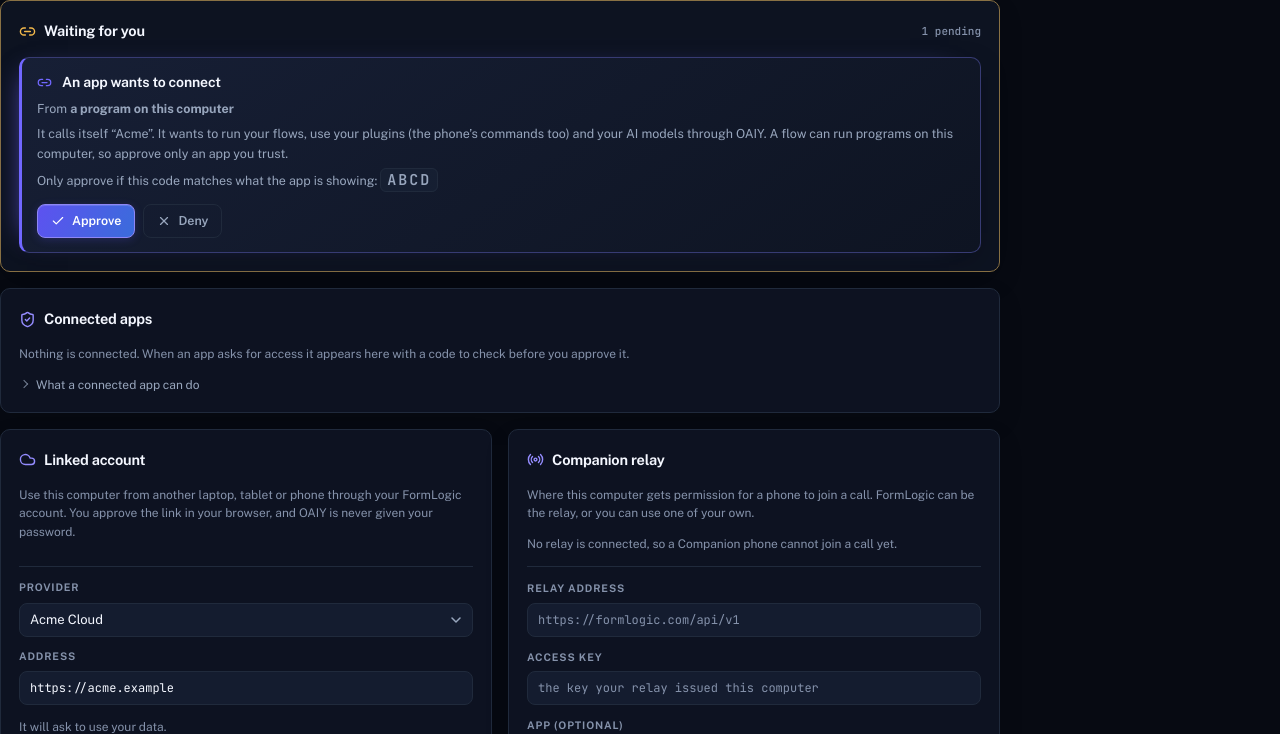
it: ConnectionsPanel · Connected apps › keeps the answer to an Approve on screen past the next reading of the list
Click the button "Approve" at (86, 221), box [37,204,135,238]
Wait 7000 ms
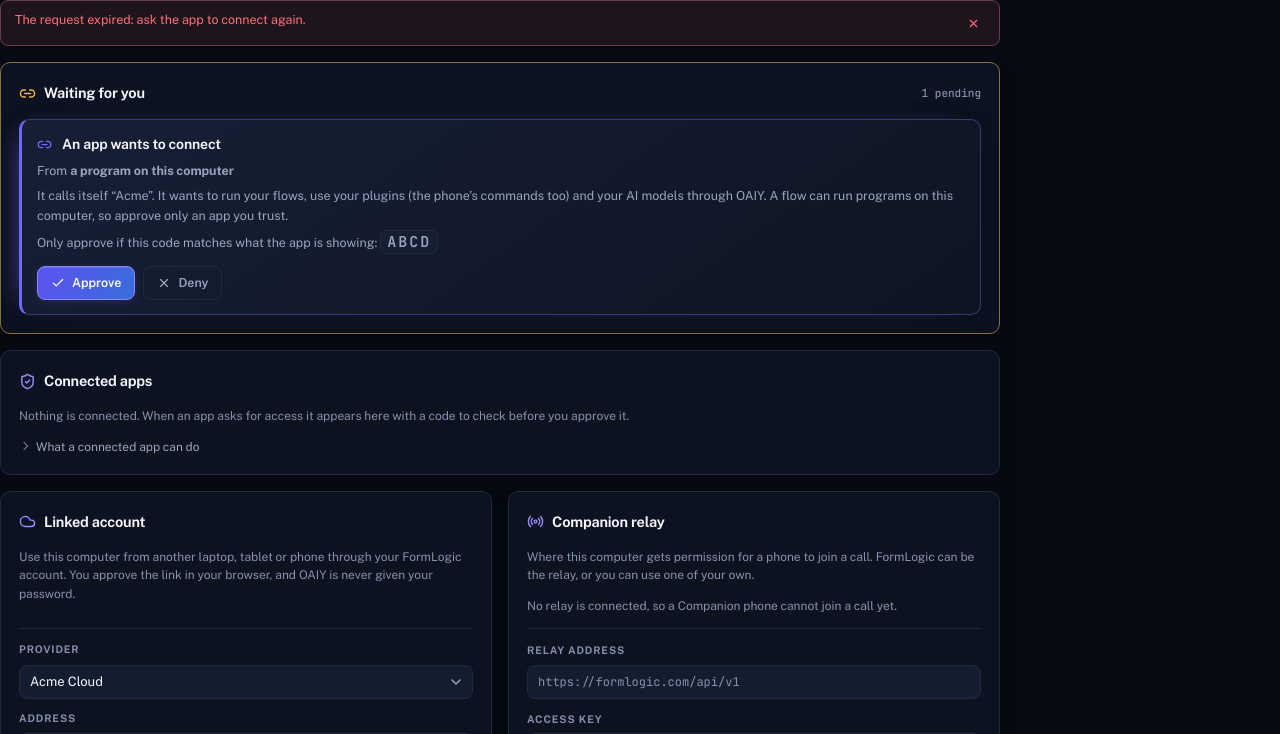
Expected: the text "The request expired" is shown, [15,12,306,27]
